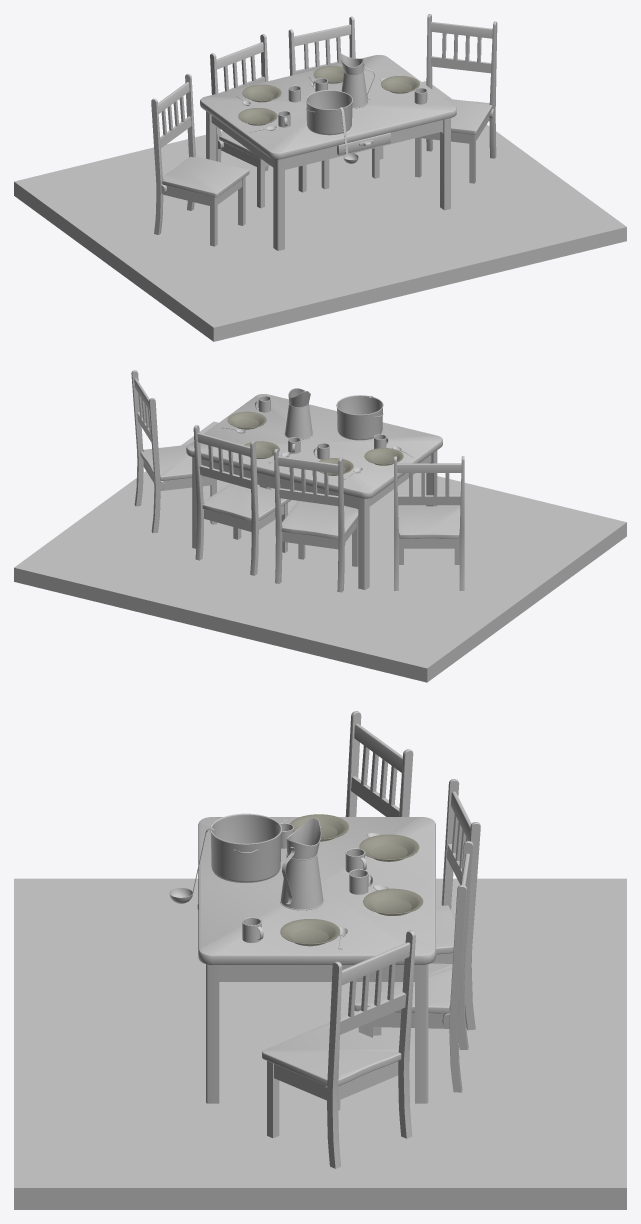
File: Old Kitchen Dio.fbx
The picture shows the model from 3 angles, top to bottom: view 1: azimuth 30°, elevation 25°; view 2: azimuth 150°, elevation 25°; view 3: azimuth 270°, elevation 25°; orthographic projection. The views are drawn at different scales.
Visible parts, largest first — view 1: Mesh_4, Mesh_1, Mesh_0, Mesh_5, Mesh_2, Mesh_3, Mesh_7; view 2: Mesh_4, Mesh_1, Mesh_0, Mesh_2, Mesh_5, Mesh_3, Mesh_7; view 3: Mesh_4, Mesh_1, Mesh_0, Mesh_5, Mesh_2, Mesh_3, Mesh_7.
Boxes of the visible parts, x1,y1,x2,y2 form: Mesh_4: (14,81,626,341); Mesh_1: (151,14,497,246); Mesh_0: (200,55,456,250); Mesh_5: (238,66,419,125); Mesh_2: (306,90,352,135); Mesh_3: (339,52,374,108); Mesh_7: (278,78,427,127); Mesh_4: (14,421,626,682); Mesh_1: (131,370,464,592); Mesh_0: (186,394,442,589); Mesh_2: (336,395,383,440); Mesh_5: (227,411,403,475); Mesh_3: (284,388,313,440); Mesh_7: (255,396,388,459); Mesh_4: (14,878,626,1209); Mesh_1: (262,711,480,1168); Mesh_0: (197,817,435,1103); Mesh_5: (280,814,423,946); Mesh_2: (210,813,282,882); Mesh_3: (280,818,324,910); Mesh_7: (242,823,372,942).
Size of the model in its own units: 515 by 194 by 431.
